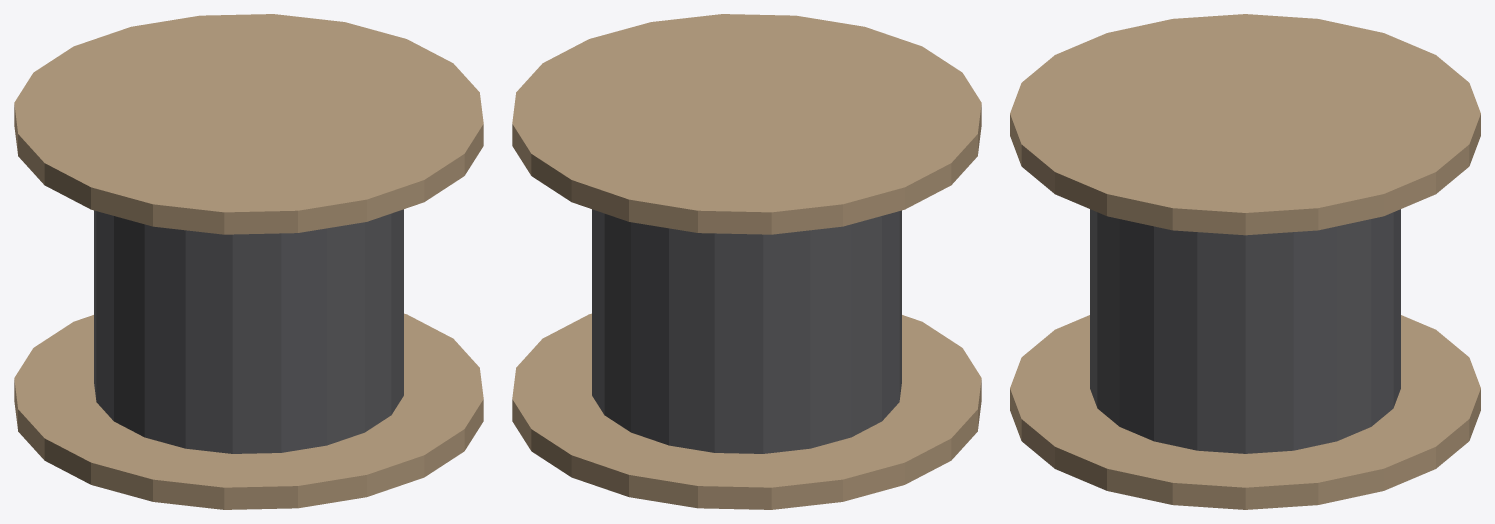
Rendered from dm_cablespool.glb.
3 views of the same model, side by side, from view 1: azimuth 30°, elevation 25°; view 2: azimuth 150°, elevation 25°; view 3: azimuth 270°, elevation 25° (orthographic).
Parts seen in each view (by area): view 1: dm_cablespool; view 2: dm_cablespool; view 3: dm_cablespool.
Part boxes in pixels (x1,y1,x2,y2): dm_cablespool: (14, 14, 483, 509); dm_cablespool: (512, 14, 981, 509); dm_cablespool: (1010, 14, 1480, 509).
Bounding box in the file's own units: 1.15 × 0.8 × 1.15.
